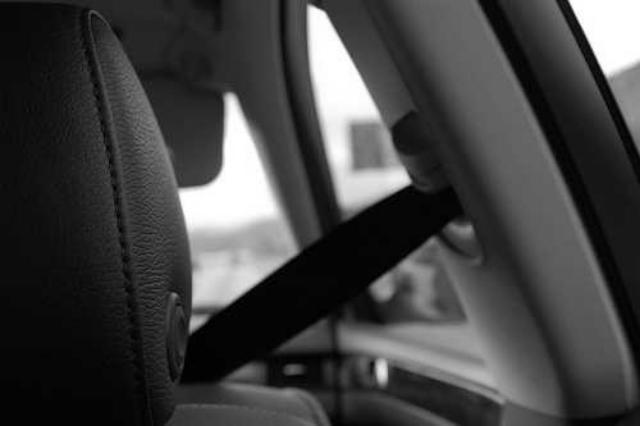Seatbelt: (183, 179, 462, 388)
